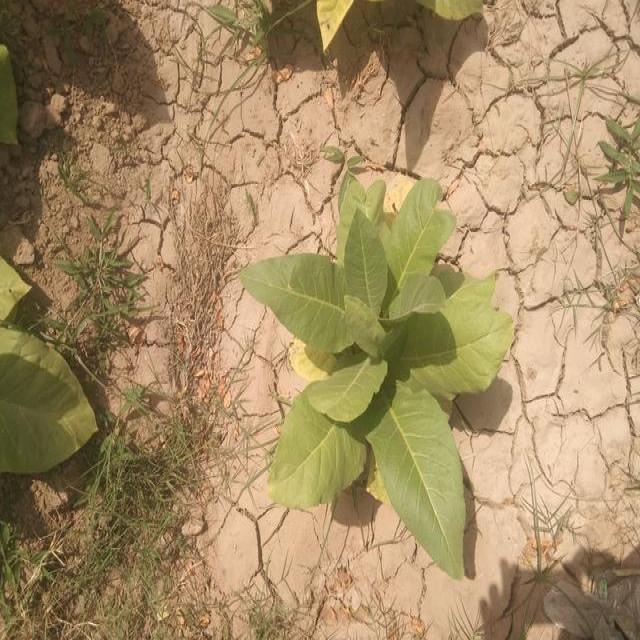crop: (243, 174, 502, 590), (0, 276, 97, 496)
